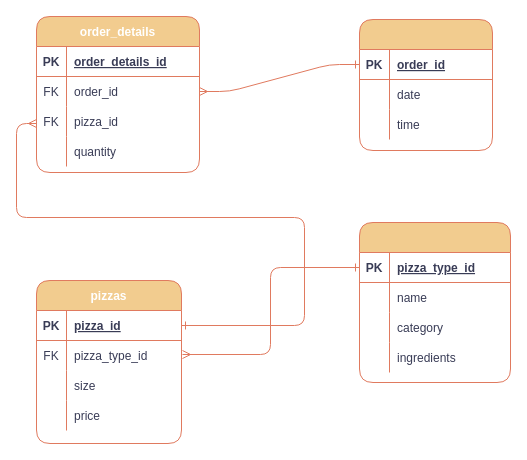
The diagram is 527 pixels wide and 460 high, and some of its shapes have lost their labels. The shapes that lost their labels are listed below. From the top down, each one's box as (x1, y1, x2, y2) in pixels, then its label:
(358, 18, 492, 150): orders
(358, 222, 510, 382): pizza_types
